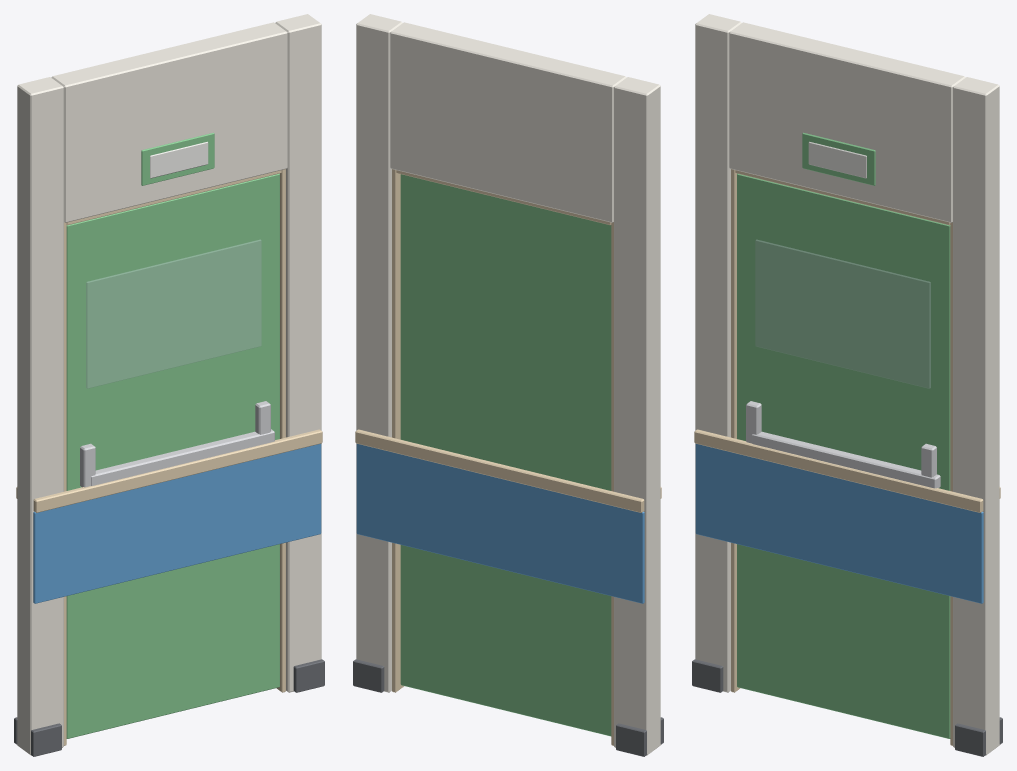
The model's file is nursery-and-primary-classroom-fire-exit-door-module-1f2b7548.glb.
3 renders of one model, left to right at view 1: azimuth 30°, elevation 25°; view 2: azimuth 150°, elevation 25°; view 3: azimuth 330°, elevation 25°, orthographic.
Visible parts, largest first — view 1: fire-exit-door-module, exit-door/green, exit-door/glass, exit-door/metal; view 2: fire-exit-door-module, exit-door/green; view 3: fire-exit-door-module, exit-door/green, exit-door/glass, exit-door/metal.
Part boxes in pixels (bbox=[...]): fire-exit-door-module: bbox=[14, 14, 324, 756]; exit-door/green: bbox=[66, 173, 279, 738]; exit-door/glass: bbox=[86, 239, 261, 388]; exit-door/metal: bbox=[80, 401, 274, 487]; fire-exit-door-module: bbox=[353, 14, 663, 756]; exit-door/green: bbox=[400, 174, 611, 736]; fire-exit-door-module: bbox=[692, 14, 1002, 756]; exit-door/green: bbox=[737, 173, 950, 738]; exit-door/glass: bbox=[755, 239, 930, 388]; exit-door/metal: bbox=[746, 401, 940, 488].
Bounding box in the file's own units: 1.2 × 2.6 × 0.1441.
